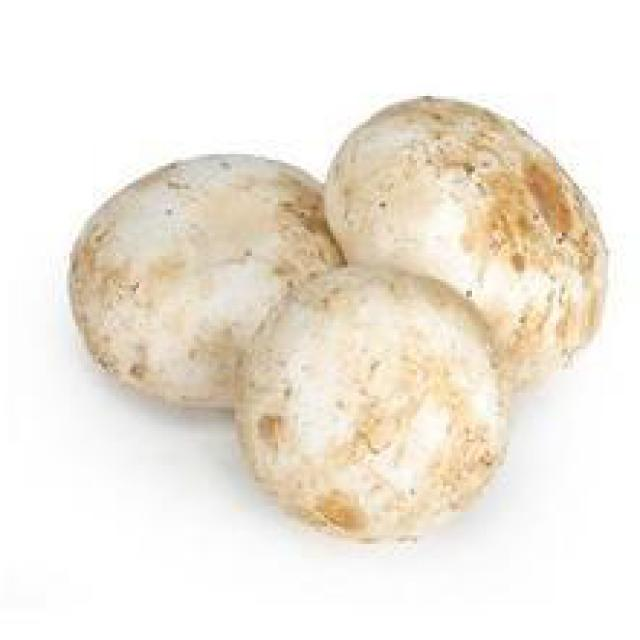Agaricus bisporus: (72, 94, 366, 413), (315, 82, 618, 379), (242, 268, 531, 562)
